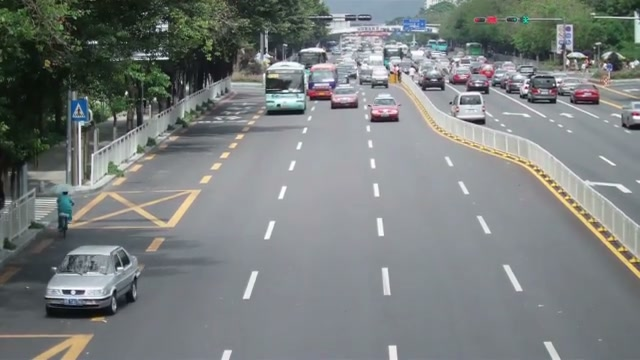bus: (264, 61, 308, 114), (309, 62, 338, 99), (383, 42, 409, 71), (298, 47, 327, 69)
car: (44, 244, 144, 317), (449, 91, 486, 125), (521, 74, 558, 104), (367, 92, 400, 122), (331, 86, 359, 109), (571, 85, 600, 105), (620, 102, 640, 128), (465, 74, 490, 94), (420, 71, 445, 91), (505, 74, 527, 93), (450, 67, 471, 84)
pedestrian: (57, 189, 74, 232)
